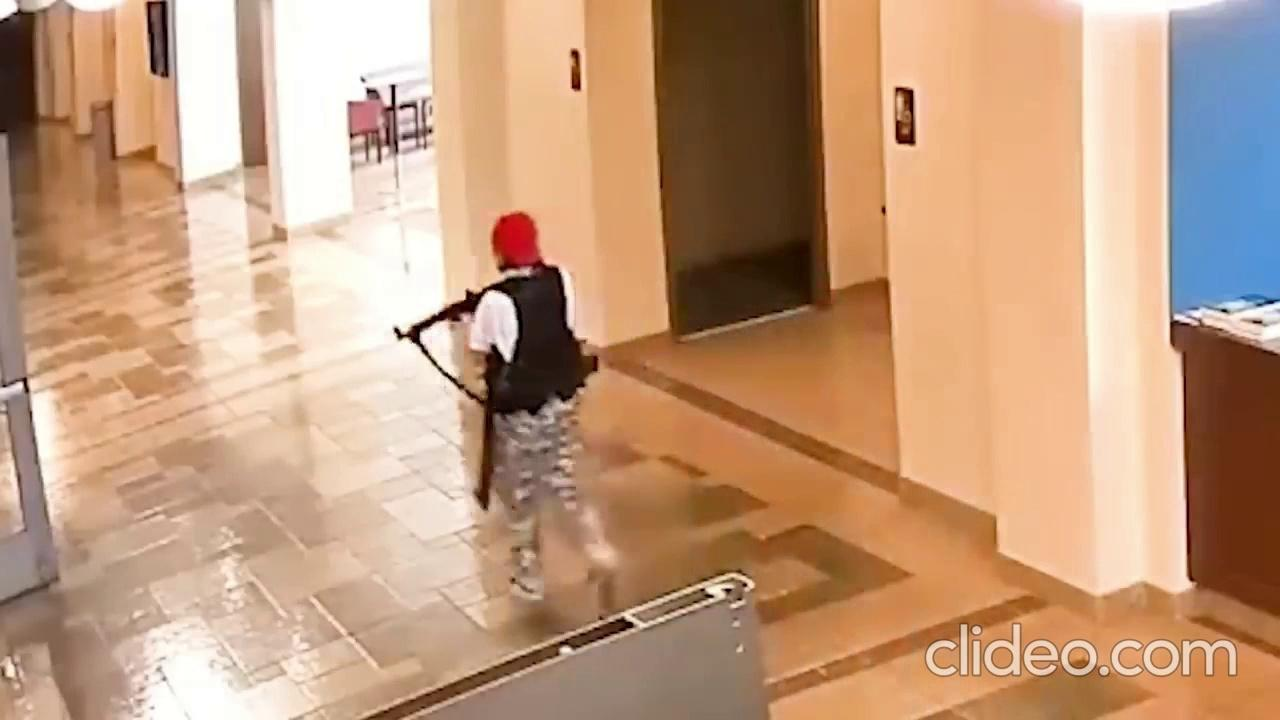person: (466, 209, 629, 612)
rifle: (472, 347, 506, 516)
